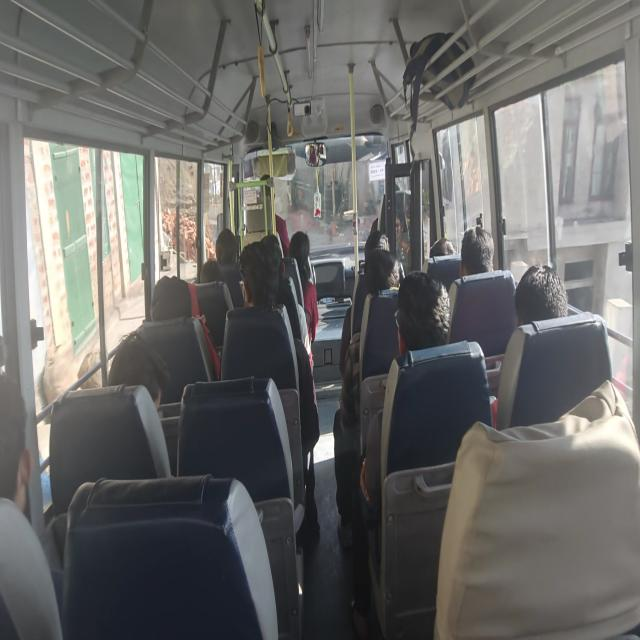person: (0, 381, 49, 572), (393, 283, 451, 379), (111, 350, 169, 434), (518, 269, 577, 346), (237, 260, 280, 329), (463, 221, 506, 279), (150, 288, 193, 336), (359, 260, 396, 302), (432, 235, 472, 271), (264, 235, 291, 279), (216, 229, 243, 270), (286, 230, 320, 260), (371, 228, 398, 263), (204, 254, 223, 292)
